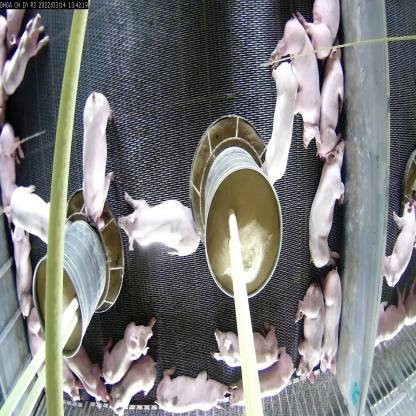Pig: (269, 13, 326, 158), (77, 88, 117, 229), (224, 333, 294, 406), (94, 301, 151, 381), (22, 303, 66, 405), (124, 202, 201, 259), (261, 63, 295, 190), (153, 360, 226, 415), (2, 17, 48, 99), (310, 148, 340, 272), (208, 310, 273, 366), (8, 180, 58, 252), (324, 262, 351, 388), (4, 222, 34, 328), (319, 43, 346, 153), (69, 353, 111, 416), (111, 366, 157, 416), (298, 293, 324, 377), (0, 131, 21, 219)
